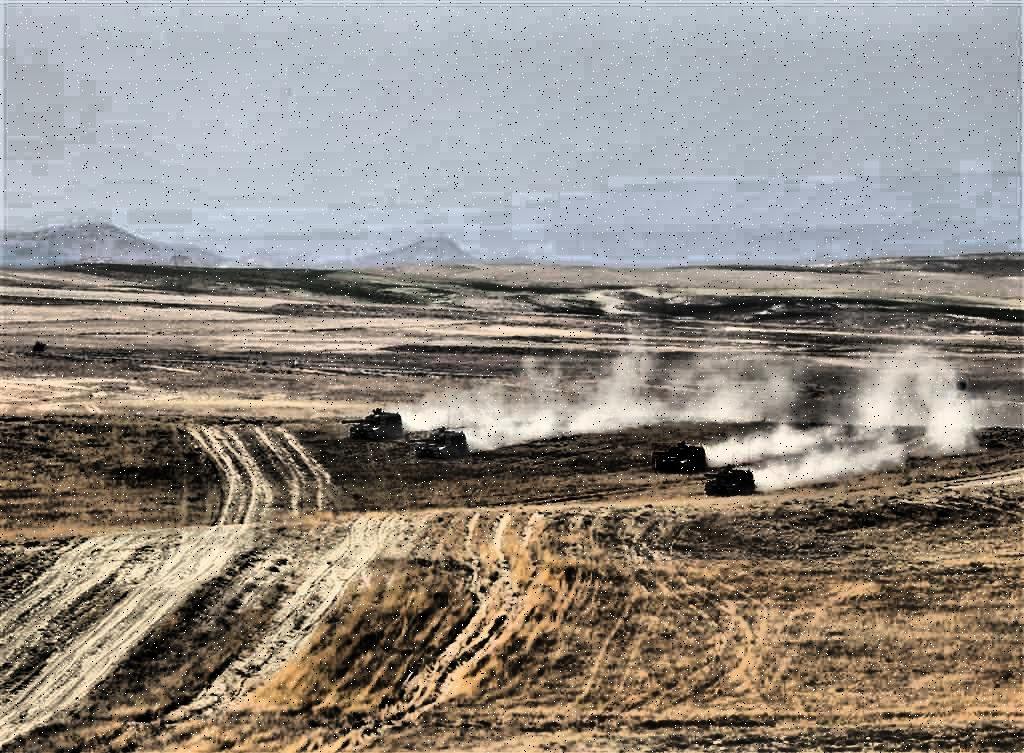military-vehicle: (411, 429, 473, 464), (340, 410, 405, 441), (653, 444, 709, 474), (705, 466, 756, 496)
